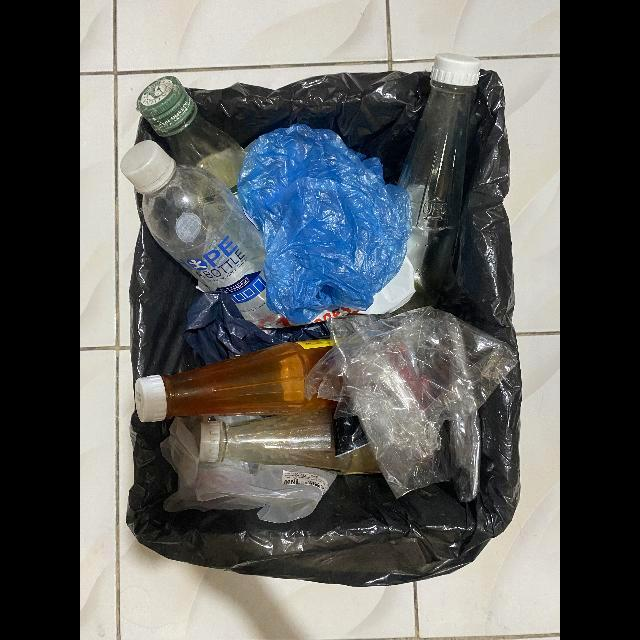glass_bottle: (372, 52, 482, 319), (135, 336, 410, 422), (199, 406, 444, 475), (136, 76, 247, 203)
plastic_bag: (236, 124, 413, 324), (160, 415, 338, 522)
plastic_bottle: (121, 140, 304, 325)
